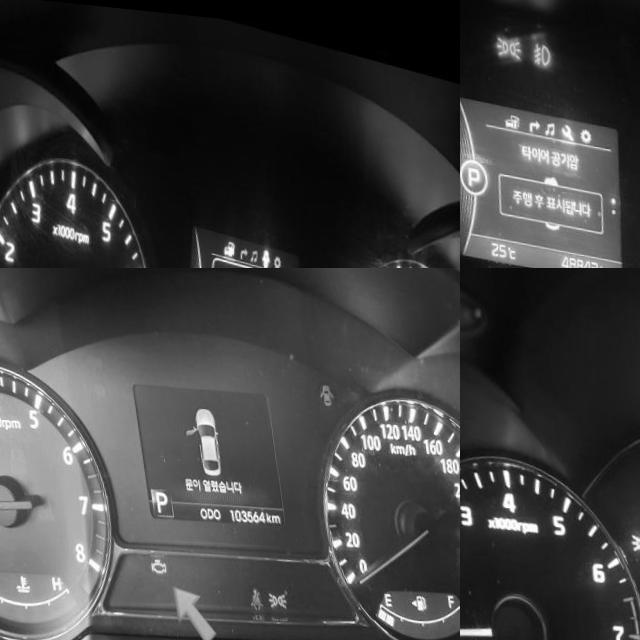FrontFogLight: (525, 33, 547, 61)
SideLamp: (488, 27, 518, 55), (619, 524, 640, 547)
